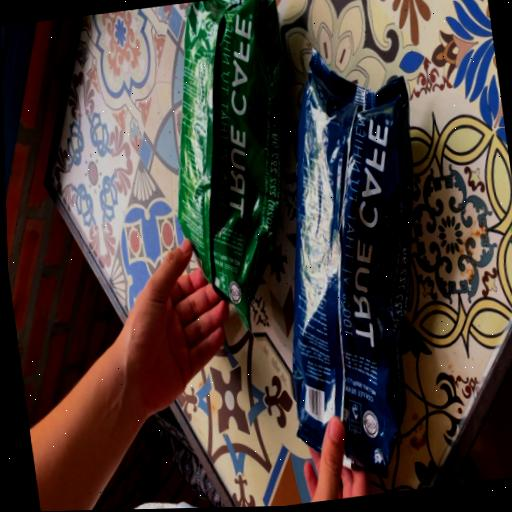cafe_hat: (293, 49, 413, 472)
cafe_xay: (178, 0, 283, 321)
